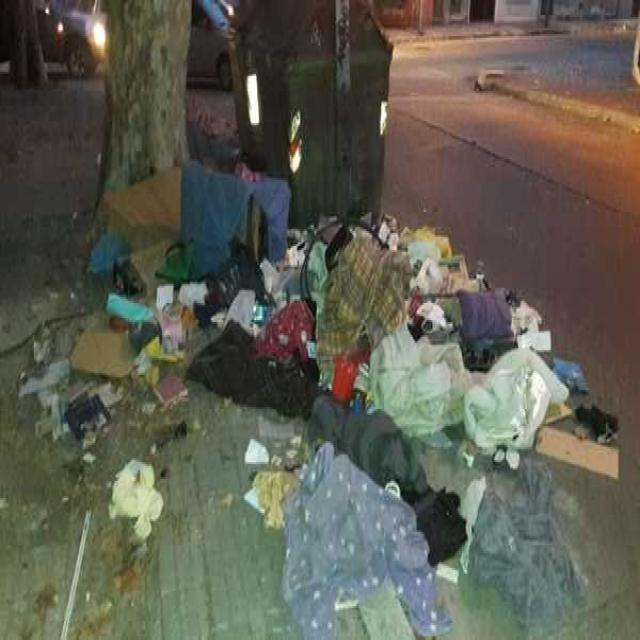high trash: (20, 162, 619, 640)
less trash: (109, 460, 164, 540)
